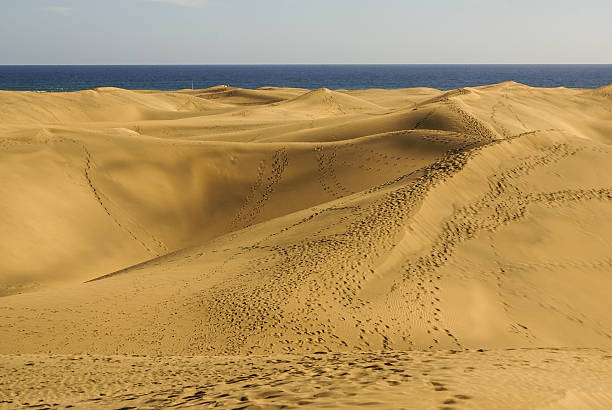human_foot_print: (372, 143, 610, 352), (241, 153, 463, 361), (140, 382, 180, 406), (207, 384, 245, 404), (92, 390, 130, 408), (260, 376, 276, 406), (254, 320, 278, 338), (294, 380, 315, 400), (324, 362, 344, 378), (219, 306, 234, 318)
